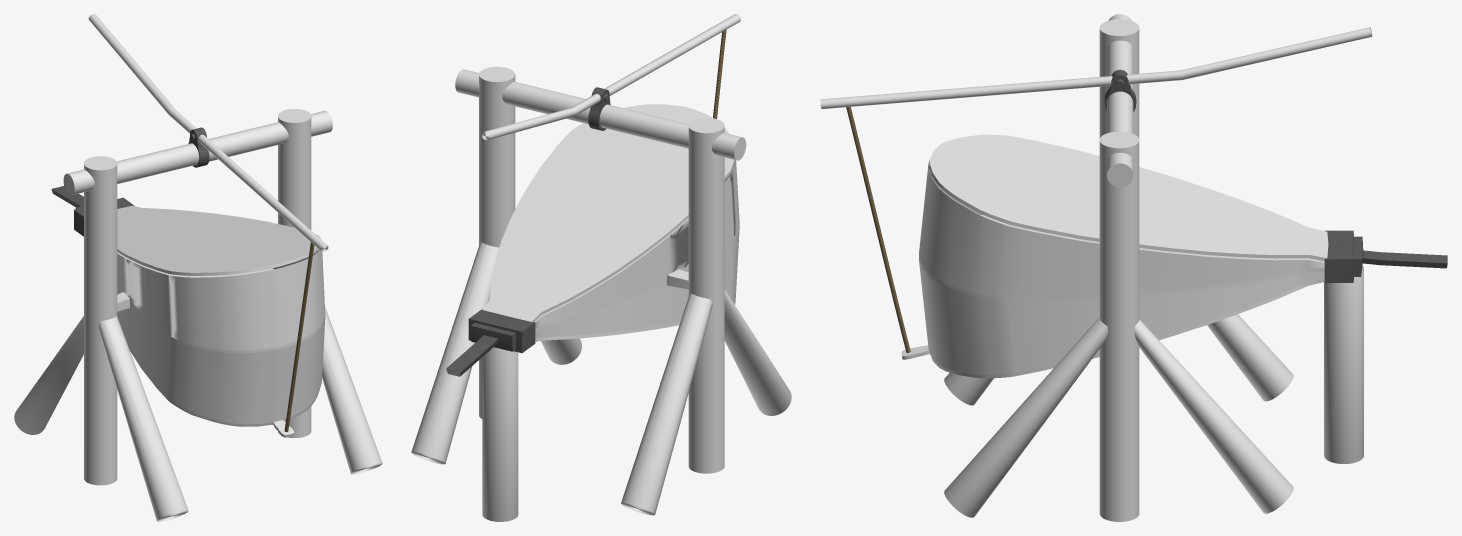
Rendered from blacksmithing_bellows_new.fbx.
3 renders of one model, left to right at view 1: azimuth 30°, elevation 25°; view 2: azimuth 150°, elevation 25°; view 3: azimuth 270°, elevation 25°, orthographic. The views are drawn at different scales.
Parts seen in each view (by area): view 1: Plane.003, Plane.004, Plane.001, Cylinder, Cylinder.002, Cylinder.006, Cylinder.005, Cylinder.003, Cylinder.001, Cylinder.010, Plane.002, BézierCurve (+3 smaller); view 2: Plane.001, Cylinder, Cylinder.001, Cylinder.007, Cylinder.003, Cylinder.004, Cylinder.006, Plane.003, Plane.004, Cylinder.002, Cube, Cylinder.010 (+4 smaller); view 3: Plane.001, Plane.003, Plane.004, Cylinder.003, Cylinder.007, Cylinder.005, Cylinder.004, Cylinder.010, Cylinder.001, Cube, Cylinder.006, Plane.002 (+4 smaller).
Boxes of the visible parts, x1,y1,x2,y2 form: Plane.003: (117,249,325,350); Plane.004: (117,290,325,424); Plane.001: (117,205,321,275); Cylinder: (84,156,117,485); Cylinder.002: (98,316,188,521); Cylinder.006: (63,110,332,195); Cylinder.005: (322,307,382,474); Cylinder.003: (278,108,311,437); Cylinder.001: (14,316,83,434); Cylinder.010: (88,14,328,251); Plane.002: (117,252,325,353); BézierCurve: (284,242,314,432); Plane.001: (482,104,734,322); Cylinder: (688,118,724,473); Cylinder.001: (621,293,712,515); Cylinder.007: (482,347,518,521); Cylinder.003: (479,66,515,418); Cylinder.004: (411,242,498,464); Cylinder.006: (455,69,746,160); Plane.003: (535,160,739,328); Plane.004: (535,228,739,338); Cylinder.002: (724,289,791,415); Cube: (446,309,535,376); Cylinder.010: (482,14,740,140); Plane.001: (928,134,1328,260); Plane.003: (919,164,1324,297); Plane.004: (919,261,1324,374); Cylinder.003: (1099,131,1139,521); Cylinder.007: (1324,265,1363,463); Cylinder.005: (944,317,1107,517); Cylinder.004: (1134,319,1293,513); Cylinder.010: (820,27,1372,109); Cylinder.001: (1207,314,1293,401); Cube: (1324,230,1447,282); Cylinder.006: (1107,14,1133,187); Plane.002: (919,215,1324,301).
Bounding box in the file's own units: 137 × 184 × 243.
Materials: 17 (3 with a texture image).
